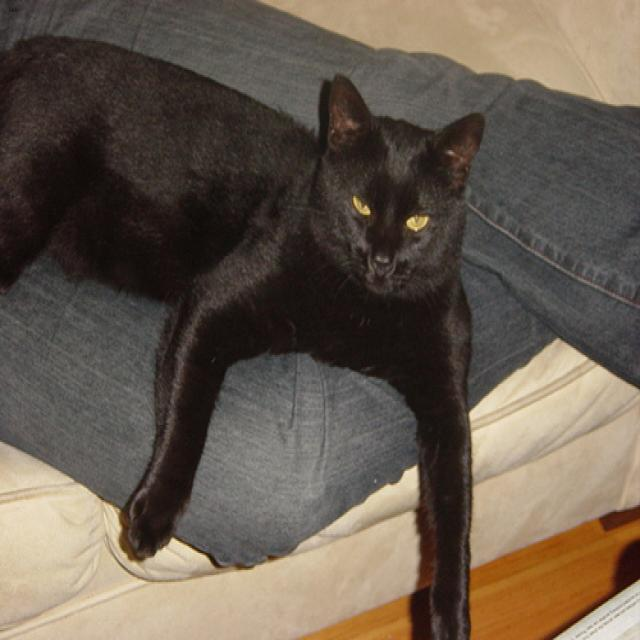Bombay: (295, 59, 491, 323)
